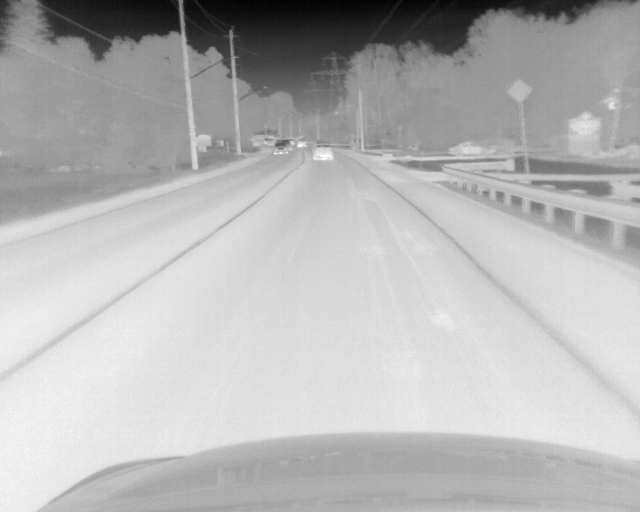car: (448, 140, 489, 157), (313, 143, 333, 162), (272, 142, 288, 156), (296, 139, 307, 149), (263, 137, 274, 147), (287, 139, 295, 147)
